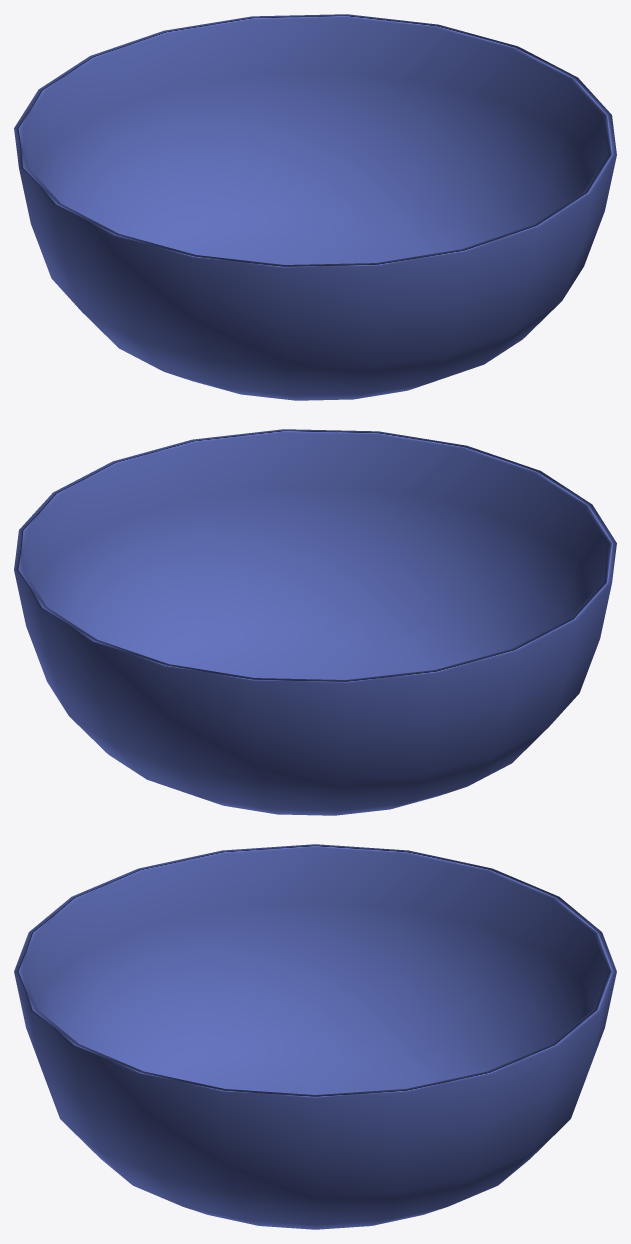
File: Bowl.fbx
The picture shows the model from 3 angles, top to bottom: view 1: azimuth 30°, elevation 25°; view 2: azimuth 150°, elevation 25°; view 3: azimuth 270°, elevation 25°; orthographic projection.
Parts seen in each view (by area): view 1: FORK:pCylinder1; view 2: FORK:pCylinder1; view 3: FORK:pCylinder1.
Part boxes in pixels (left/top/right/bottom): FORK:pCylinder1: left=14, top=14, right=616, bottom=400; FORK:pCylinder1: left=14, top=429, right=616, bottom=815; FORK:pCylinder1: left=14, top=844, right=616, bottom=1229.
Size of the model in its own units: 33.3 by 11.8 by 33.3.
